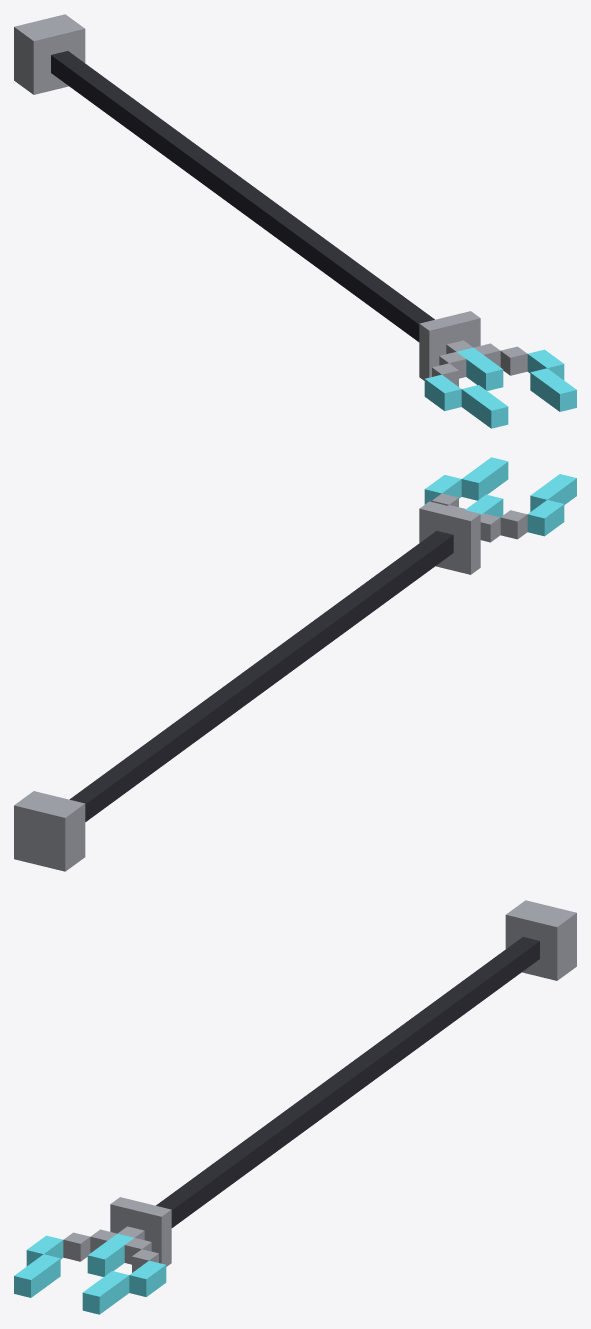
Rendered from vox_staff_storm.glb.
3 views of the same model, one above another, from view 1: azimuth 30°, elevation 25°; view 2: azimuth 150°, elevation 25°; view 3: azimuth 330°, elevation 25° (orthographic).
Parts seen in each view (by area): view 1: vox_staff_storm; view 2: vox_staff_storm; view 3: vox_staff_storm.
Boxes of the visible parts, x1,y1,x2,y2 form: vox_staff_storm: (14, 14, 576, 428); vox_staff_storm: (14, 457, 576, 871); vox_staff_storm: (14, 900, 576, 1314).
Size of the model in its own units: 0.14 by 0.06 by 1.
